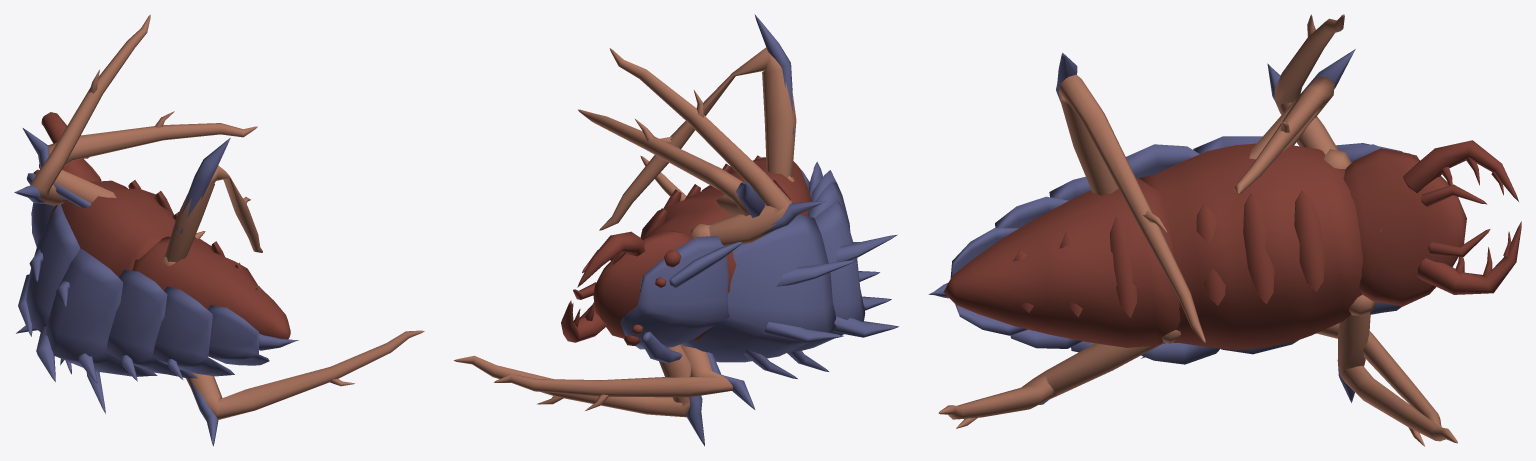
Rendered from big-biter-corpse.glb.
3 renders of one model, left to right at view 1: azimuth 30°, elevation 25°; view 2: azimuth 150°, elevation 25°; view 3: azimuth 270°, elevation 25°, orthographic. The views are drawn at different scales.
Visible parts, largest first — view 1: body; view 2: body; view 3: body.
Boxes of the visible parts, left/top/right/bottom form: body: left=14, top=14, right=424, bottom=446; body: left=454, top=14, right=898, bottom=446; body: left=928, top=14, right=1521, bottom=446.
Bounding box in the file's own units: 2.78 × 2.95 × 3.54.
